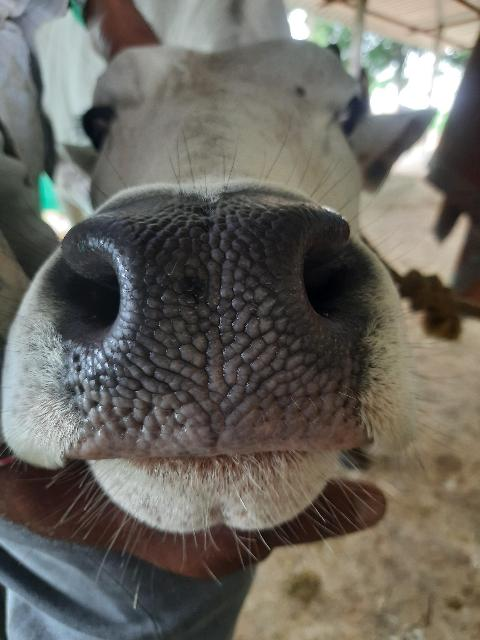Muzzle: (58, 216, 356, 447)
